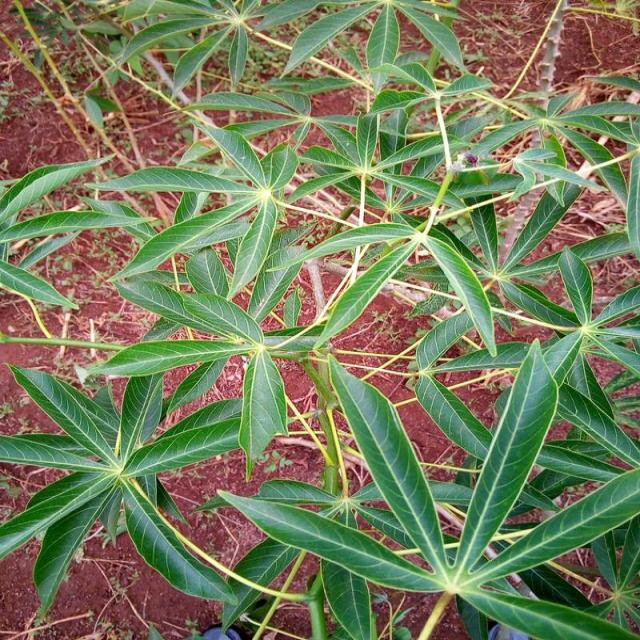cassava leaf: (1, 1, 638, 637), (326, 351, 448, 578), (453, 335, 558, 578)
